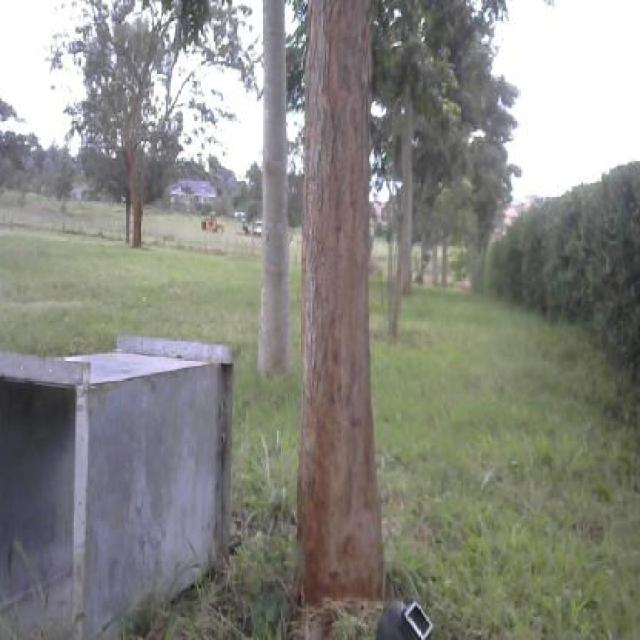tree trunk: (292, 32, 390, 630)
